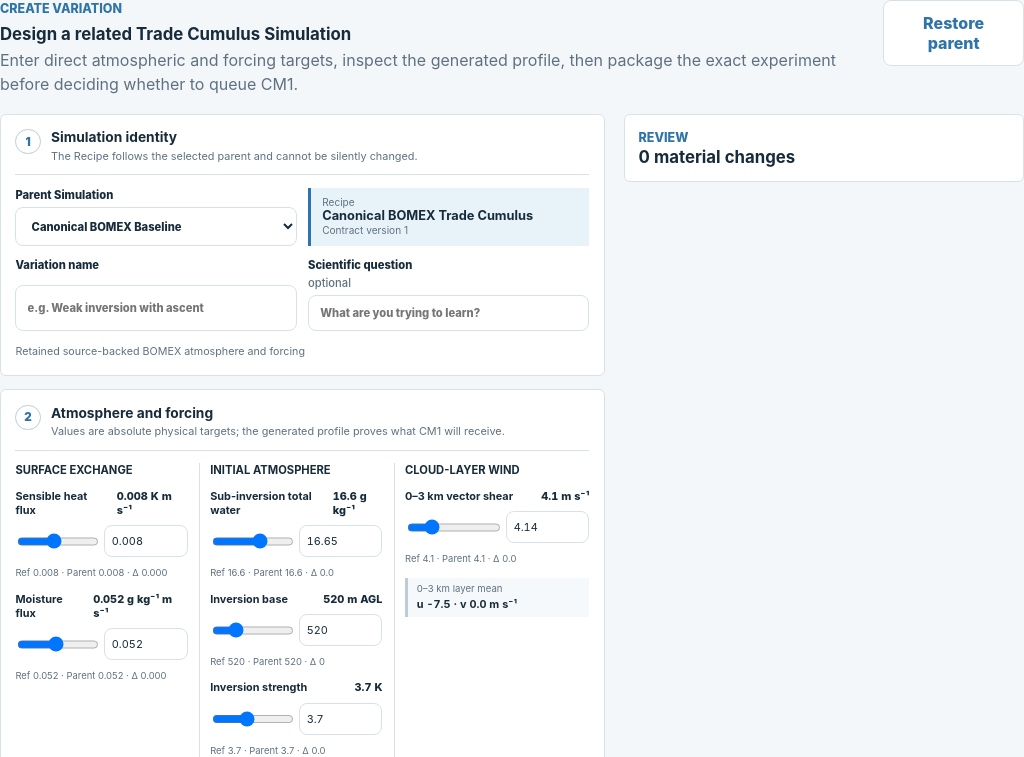
Test: TradeCumulusVariationEditor › keeps unusual science launchable and blocks an impossible generated profile
Expected: the heading "0 material changes" is shown, [639,147,795,167]
Replace the text in the number field named "Sensible heat flux exact value" with "-0.01": (146, 541) [104,525,188,557]
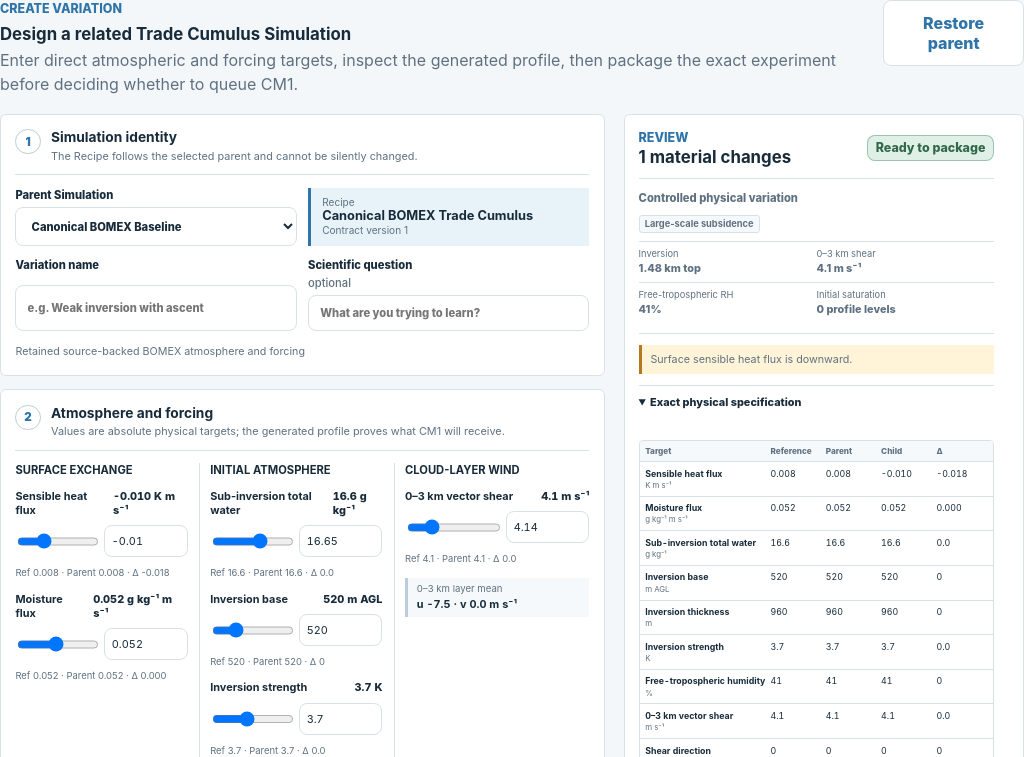
Now the text "Surface sensible heat flux is downward." is shown, box [639,346,994,374]
In the field labelled "Variation name": (156, 308) [15,285,297,331], type "Surface cooling"
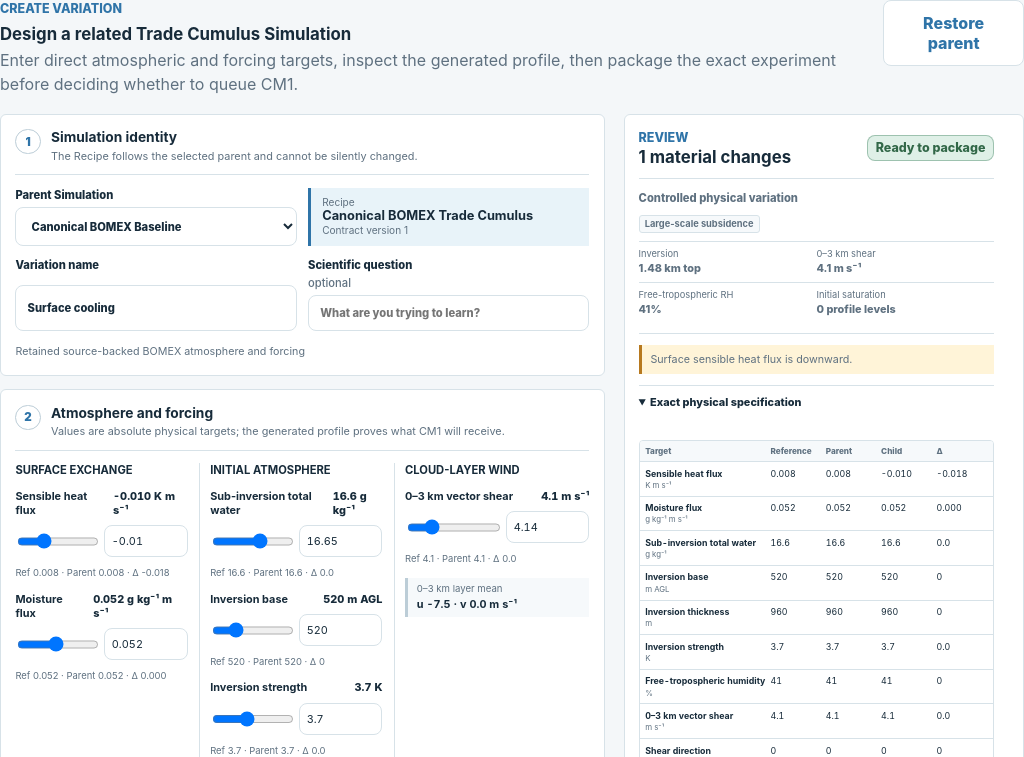
Replace the text in the number field named "Inversion base exact value" with "2800": (341, 630) [299,614,382,646]
(page scrolled)
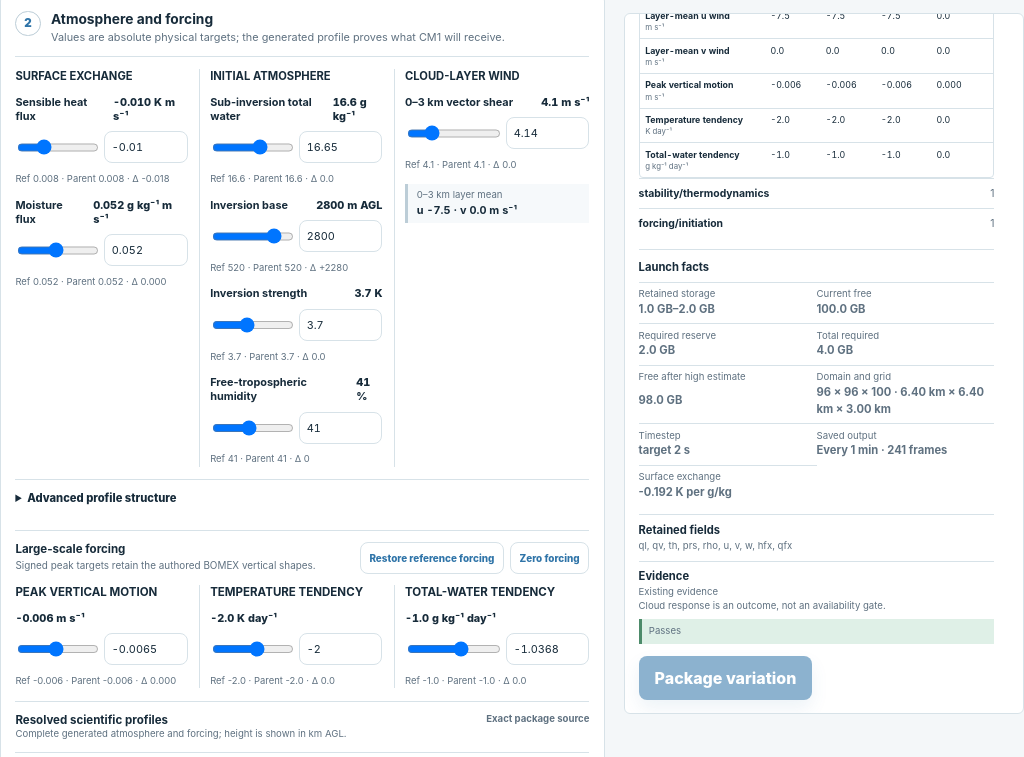
Now the button "Package variation" is disabled, box [639,655,812,699]
